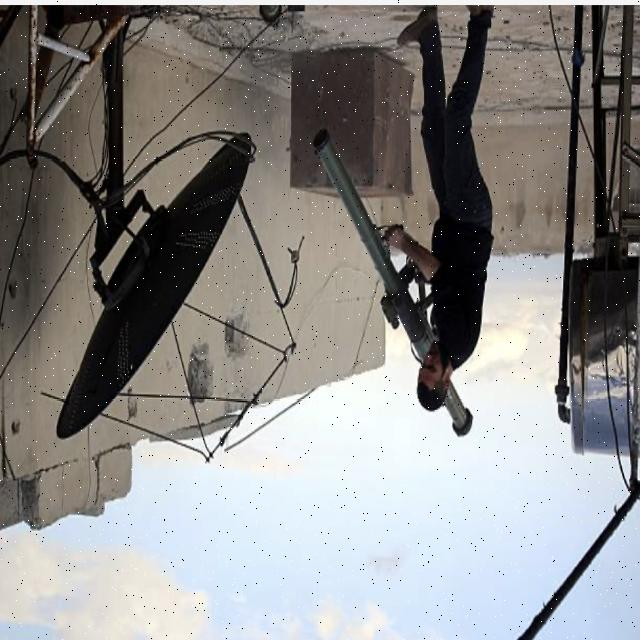bazooka: (310, 122, 475, 443)
